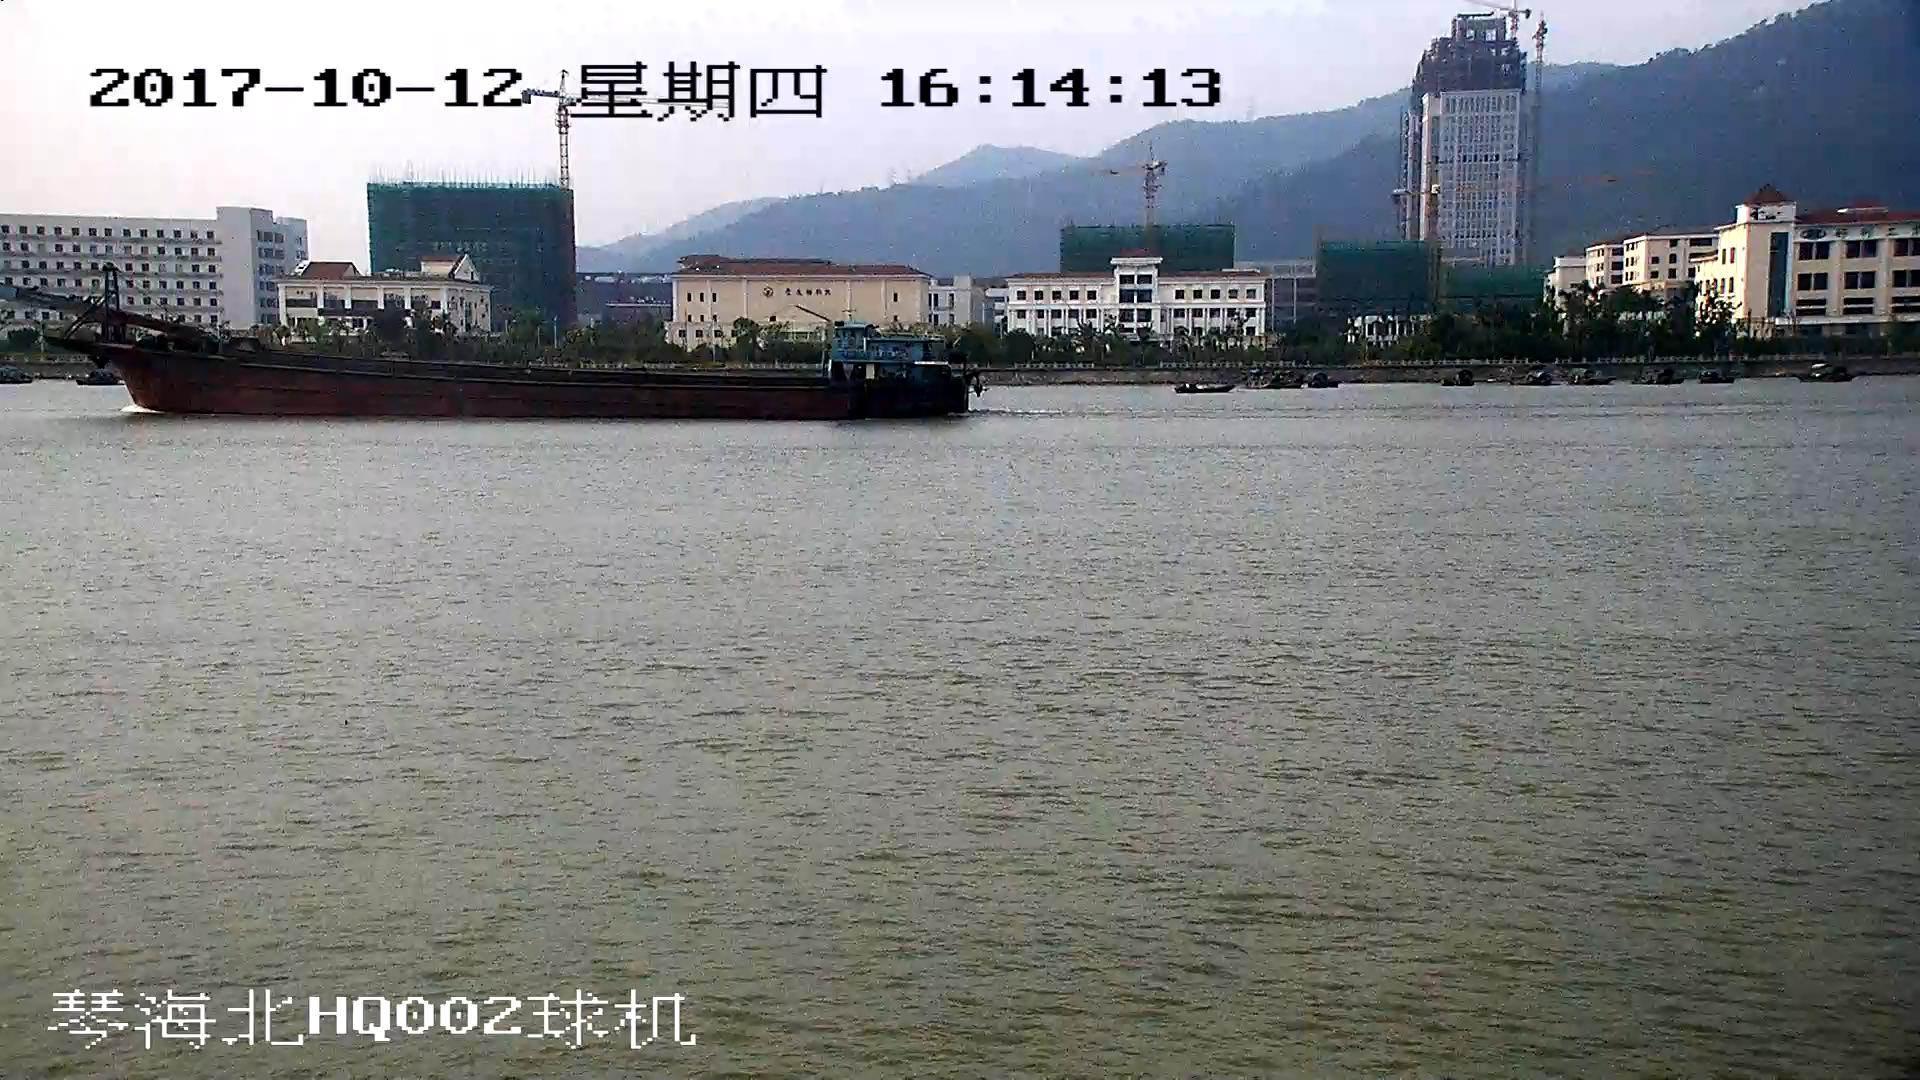bulk cargo carrier: (1, 272, 978, 424)
